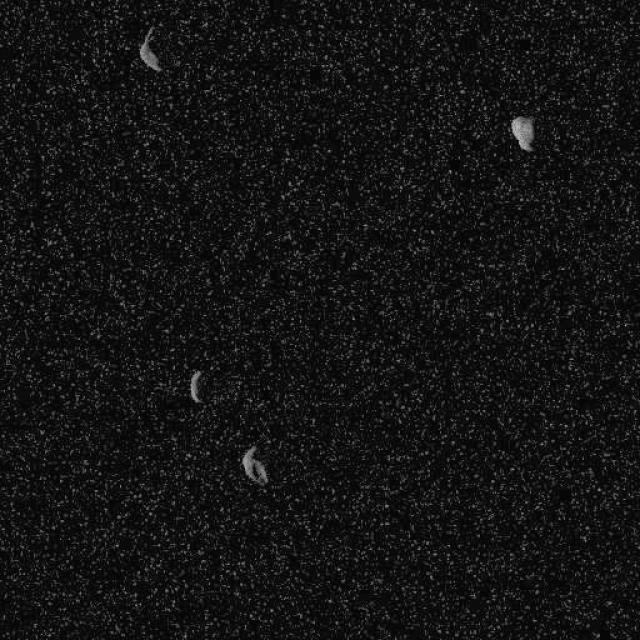D2: (240, 445, 269, 486), (138, 23, 162, 72), (510, 114, 535, 152), (188, 368, 204, 403)
